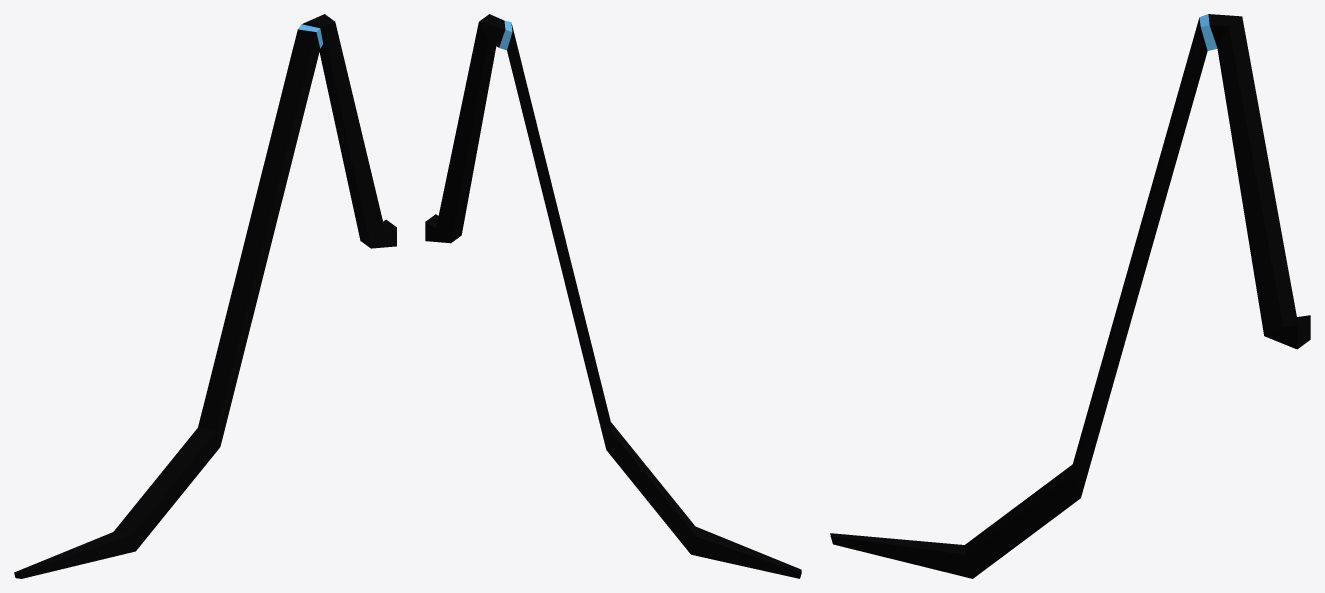
Rendered from MLegL.fbx.
The picture shows the model from 3 angles, left to right: view 1: azimuth 30°, elevation 25°; view 2: azimuth 150°, elevation 25°; view 3: azimuth 330°, elevation 25°; orthographic projection. The views are drawn at different scales.
Visible parts, largest first — view 1: MLegL; view 2: MLegL; view 3: MLegL.
Boxes of the visible parts, x1,y1,x2,y2 form: MLegL: (14, 14, 396, 578); MLegL: (425, 14, 801, 578); MLegL: (830, 14, 1310, 578).
Size of the model in its own units: 46.45 by 57.35 by 3.14.
